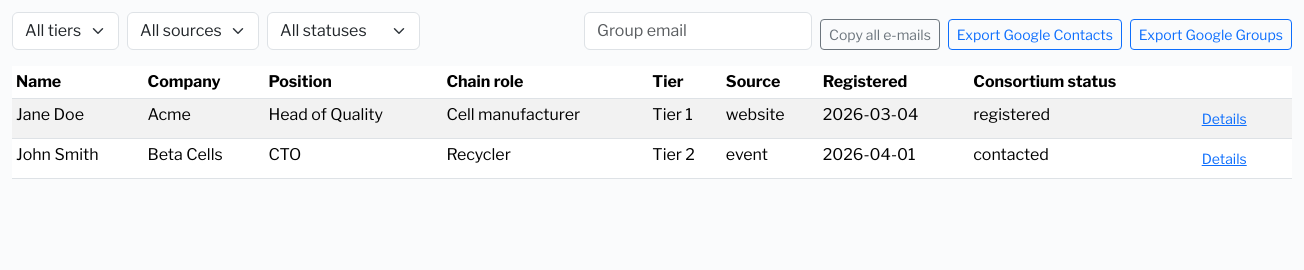
ConsortiumRegistrations › requires a group address before the Google Groups export
What coordinates should you click on to do the following:
click the button "Export Google Groups"
I would click on:
 (1211, 34)
Its box is left=1130, top=19, right=1292, bottom=50.
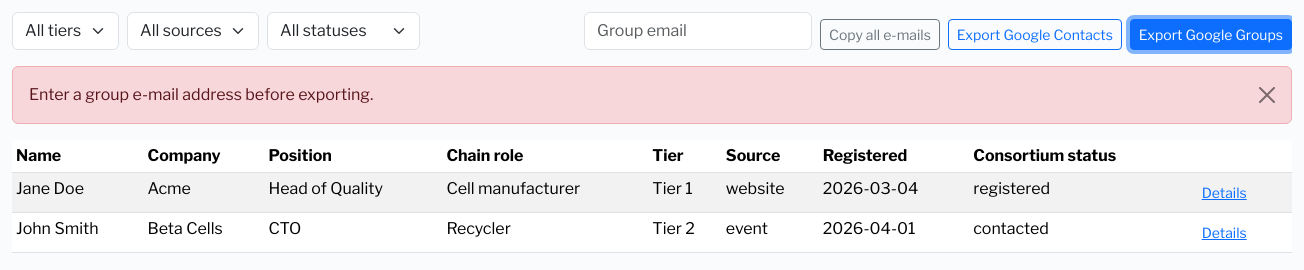
Check: the text "Enter a group e-mail address before exporting." is shown, box left=12, top=66, right=1292, bottom=124
